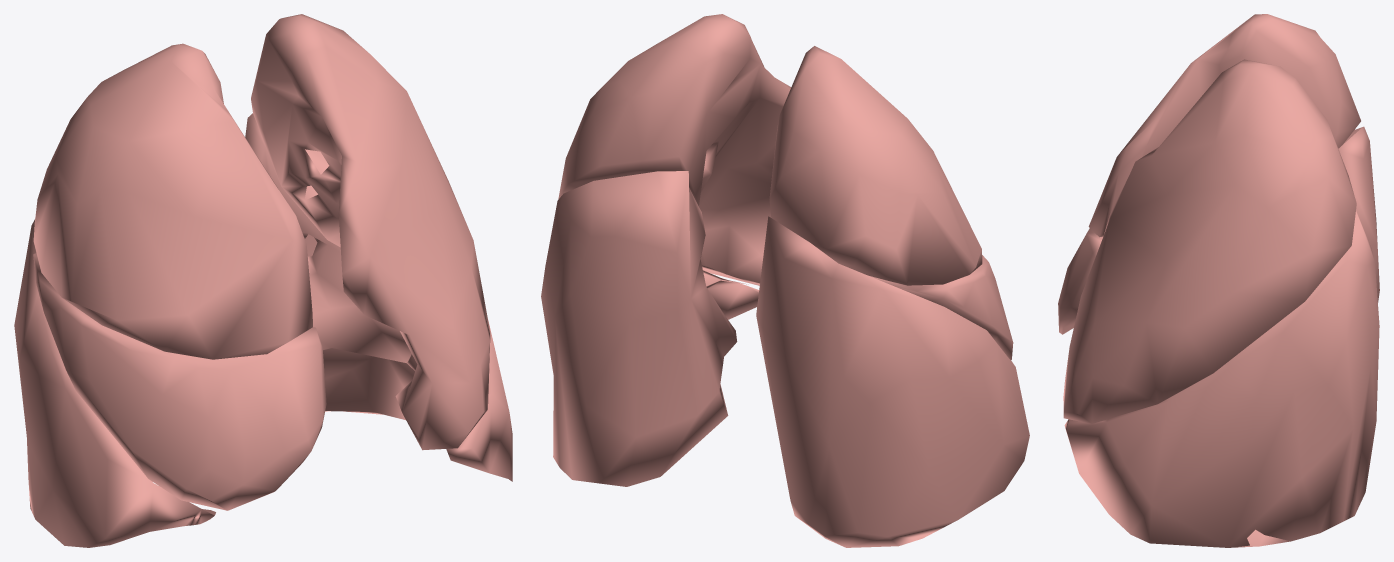
File: arbre-bronchique-lod2.glb
The picture shows the model from 3 angles, left to right: view 1: azimuth 30°, elevation 25°; view 2: azimuth 150°, elevation 25°; view 3: azimuth 270°, elevation 25°; orthographic projection. The views are drawn at different scales.
Parts seen in each view (by area): view 1: Superior lobe of right lung, Superior lobe of left lung, Middle lobe of right lung, Inferior lobe of right lung, Inferior lobe of left lung; view 2: Inferior lobe of right lung, Inferior lobe of left lung, Superior lobe of left lung, Superior lobe of right lung, Middle lobe of right lung; view 3: Superior lobe of left lung, Inferior lobe of left lung, Superior lobe of right lung, Inferior lobe of right lung, Middle lobe of right lung.
Part boxes in pixels (x1,y1,x2,y2): Superior lobe of right lung: [33, 43, 312, 359]; Superior lobe of left lung: [251, 14, 490, 450]; Middle lobe of right lung: [33, 253, 326, 510]; Inferior lobe of right lung: [14, 219, 215, 547]; Inferior lobe of left lung: [245, 113, 512, 481]; Inferior lobe of right lung: [756, 216, 1029, 547]; Inferior lobe of left lung: [541, 171, 759, 486]; Superior lobe of left lung: [558, 14, 790, 285]; Superior lobe of right lung: [769, 46, 982, 285]; Middle lobe of right lung: [869, 255, 1013, 359]; Superior lobe of left lung: [1063, 59, 1356, 423]; Inferior lobe of left lung: [1064, 210, 1379, 547]; Superior lobe of right lung: [1088, 14, 1360, 237]; Inferior lobe of right lung: [1338, 126, 1379, 302]; Middle lobe of right lung: [1058, 228, 1102, 334].
Size of the model in its own units: 0.2593 by 0.2624 by 0.1837.
